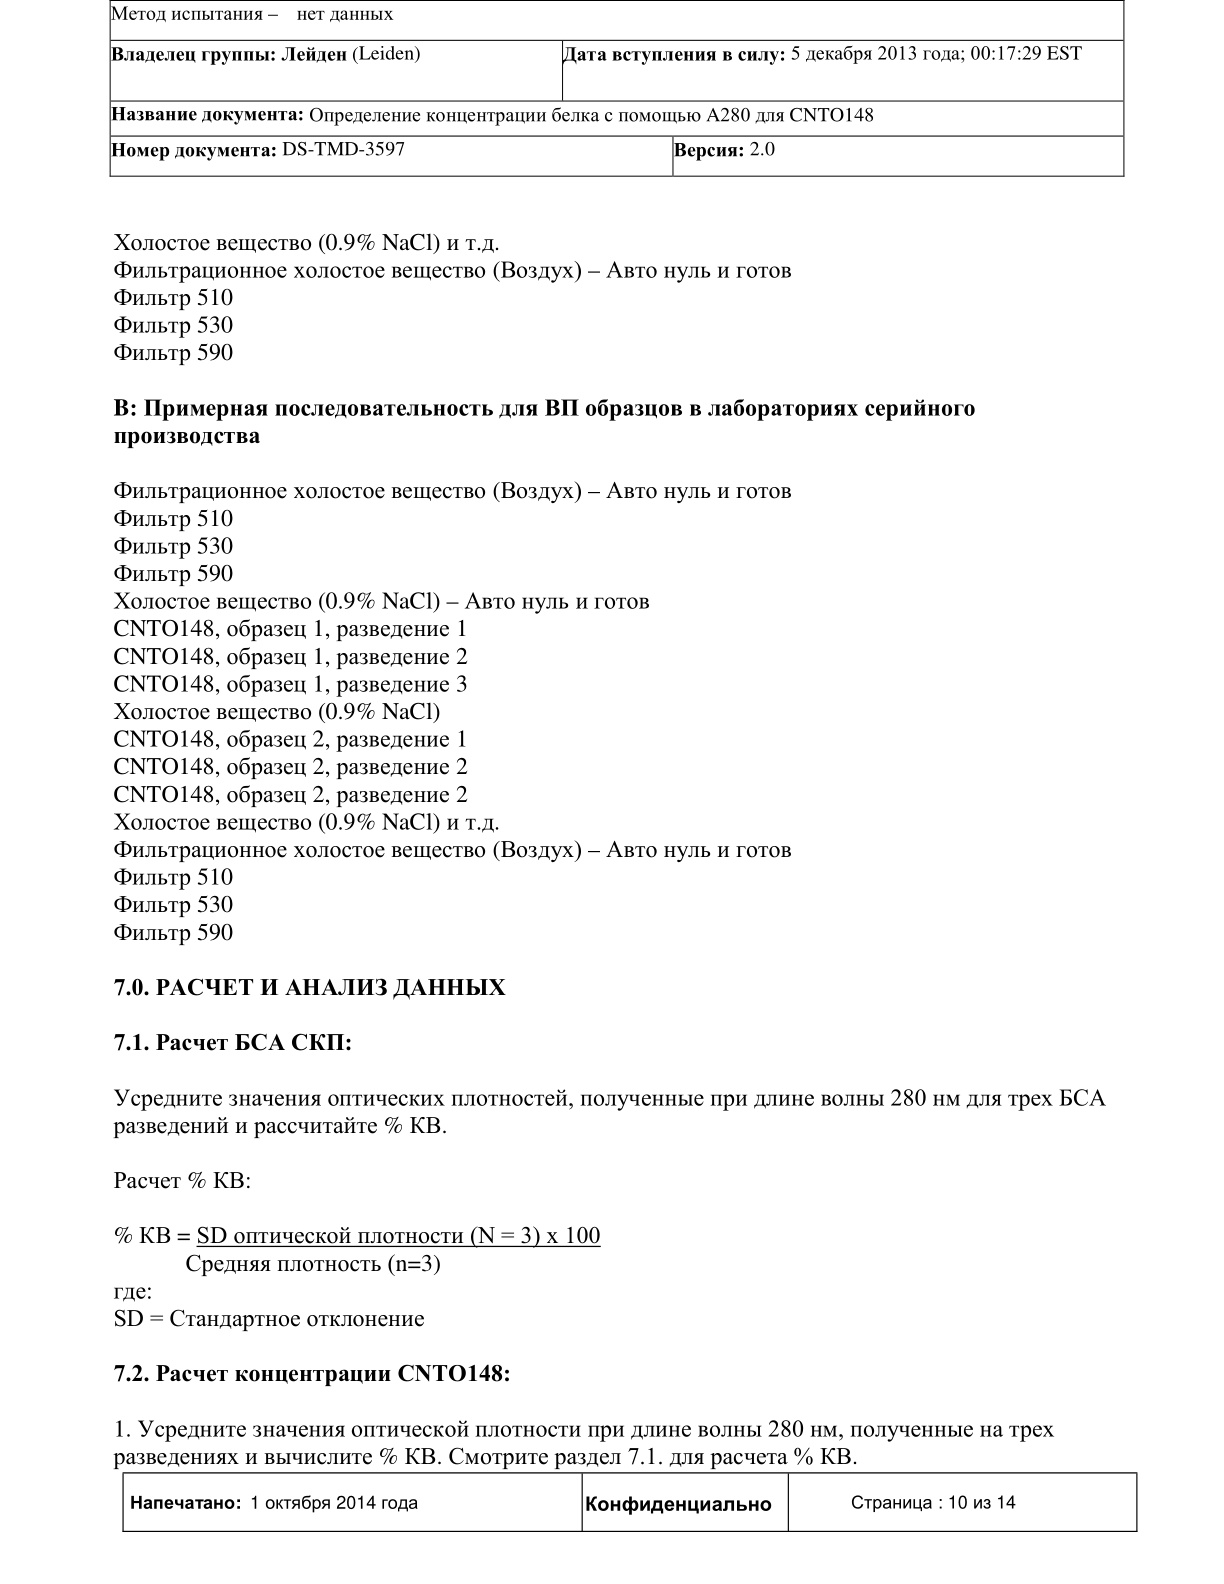full_lined: (121, 1471, 1138, 1533)
merged_cells: (109, 1, 1126, 177)
